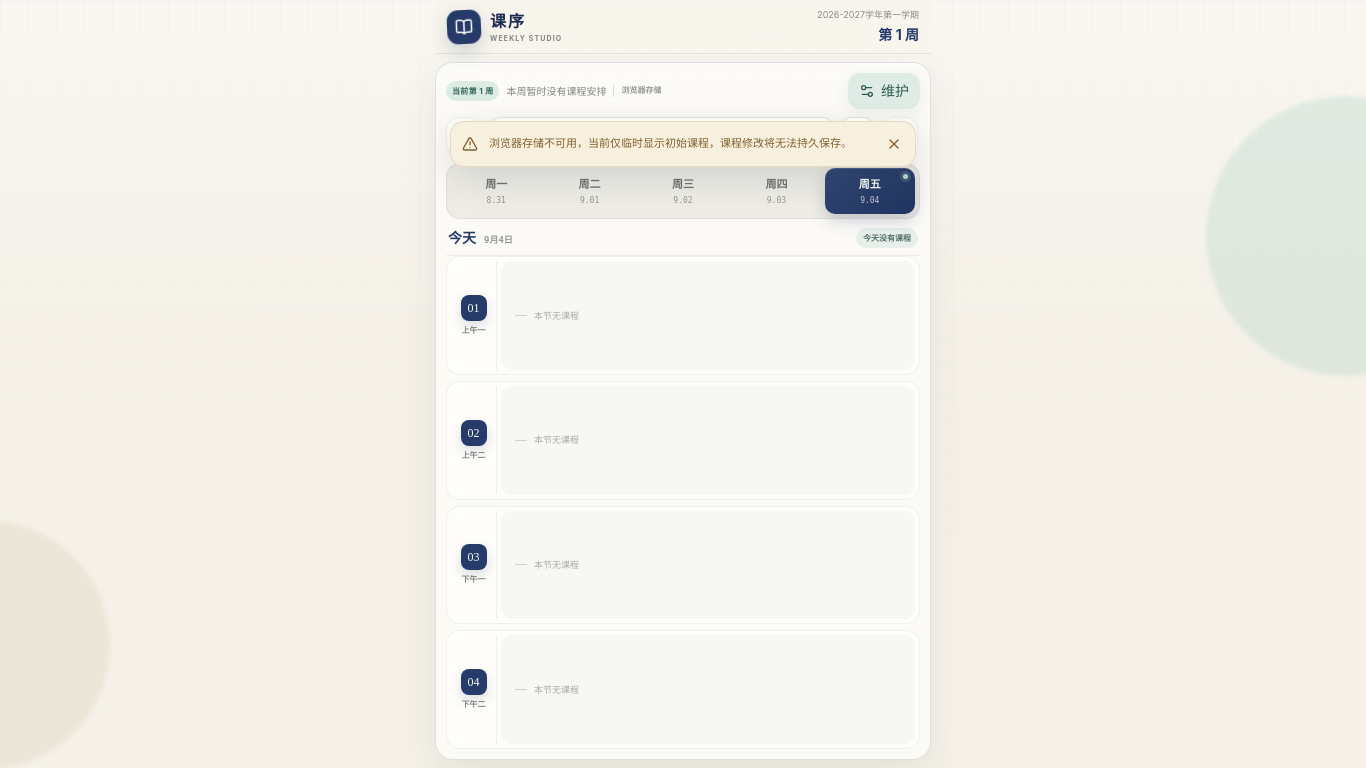
Test case: course schedule page › 浏览器存储读取失败时临时展示内置课程并明确提示
This screenshot has width=1366, height=768.
Expected: the text "浏览器存储不可用，当前仅临时显示初始课程，课程修改将无法持久保存。" is shown, 489,136 -> 871,152
Click the button "维护": (884, 91) 848,73 -> 920,109
(page scrolled)
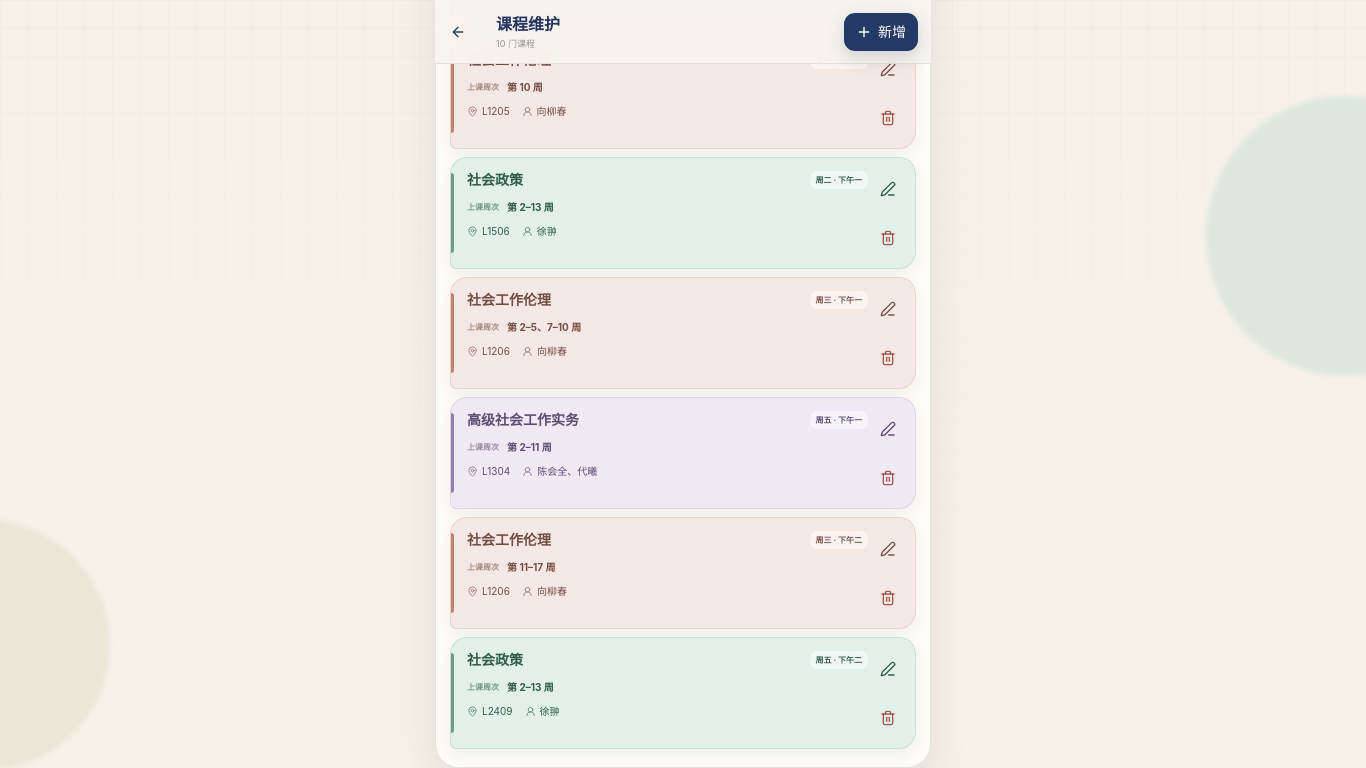
Now the heading "高级社会工作实务" is shown, box 467,410 -> 579,429
